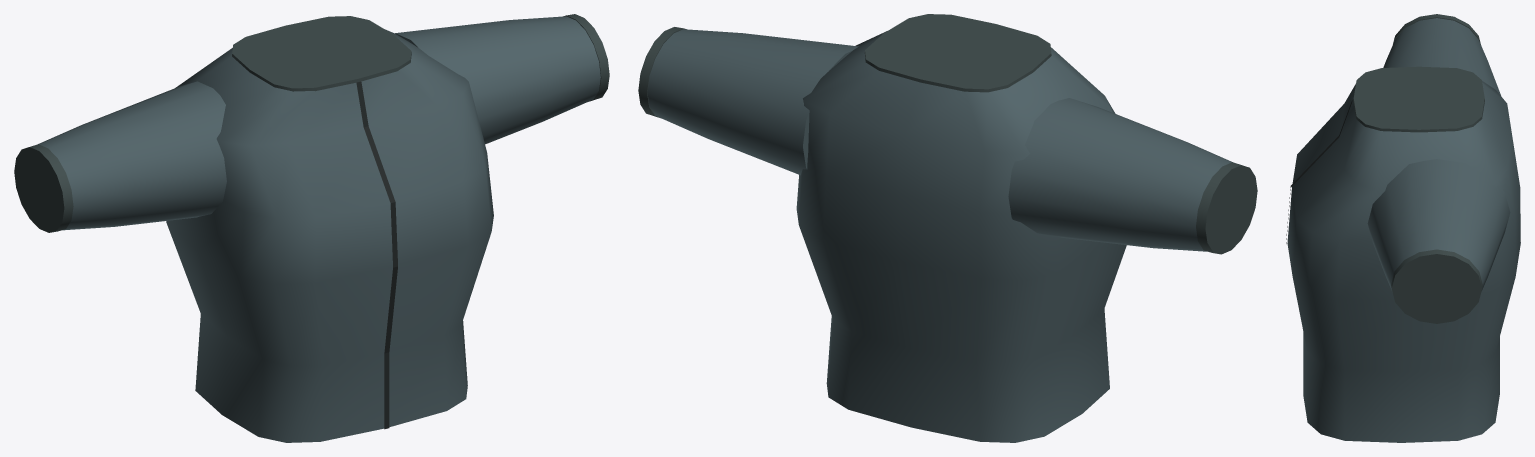
The model's file is SimpleClothes.gltf.
3 renders of one model, left to right at view 1: azimuth 30°, elevation 25°; view 2: azimuth 150°, elevation 25°; view 3: azimuth 270°, elevation 25°, orthographic. The views are drawn at different scales.
Parts seen in each view (by area): view 1: Body, SleeveRight, SleeveLeft; view 2: Body, SleeveRight, SleeveLeft; view 3: Body, SleeveLeft, SleeveRight.
Boxes of the visible parts, <box> form: Body: <box>166,16,493,442</box>; SleeveRight: <box>14,81,226,232</box>; SleeveLeft: <box>395,14,609,144</box>; Body: <box>796,14,1126,442</box>; SleeveRight: <box>1008,98,1257,254</box>; SleeveLeft: <box>638,27,858,175</box>; Body: <box>1286,66,1520,442</box>; SleeveLeft: <box>1367,159,1510,323</box>; SleeveRight: <box>1383,14,1500,95</box>.
Bounding box in the file's own units: 0.866 × 0.499 × 0.358.
